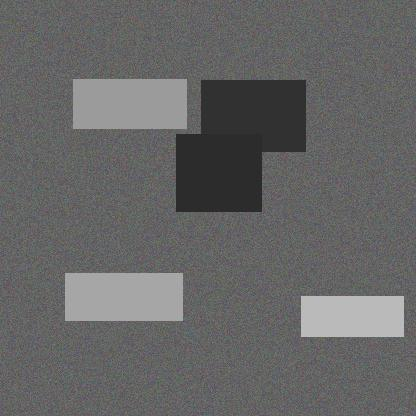empty: (113, 228, 176, 299)
occupied: (178, 242, 231, 284)
